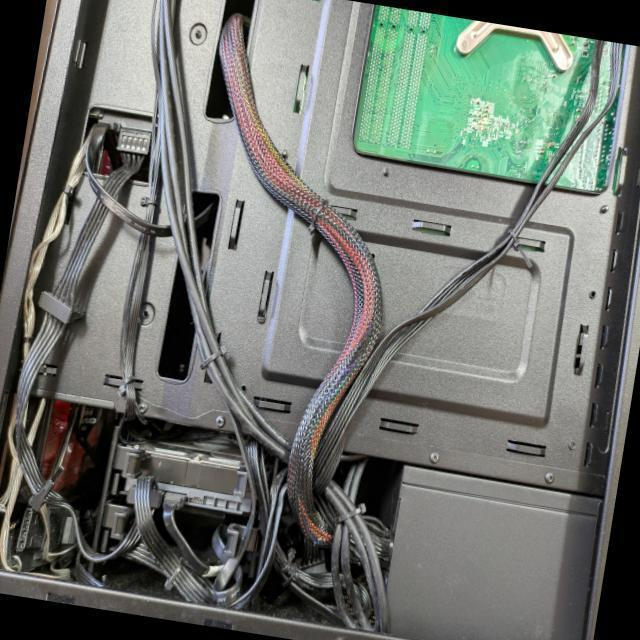DISK: (109, 430, 269, 522)
Mainboard: (352, 6, 626, 192)
PSU: (360, 462, 604, 640)
